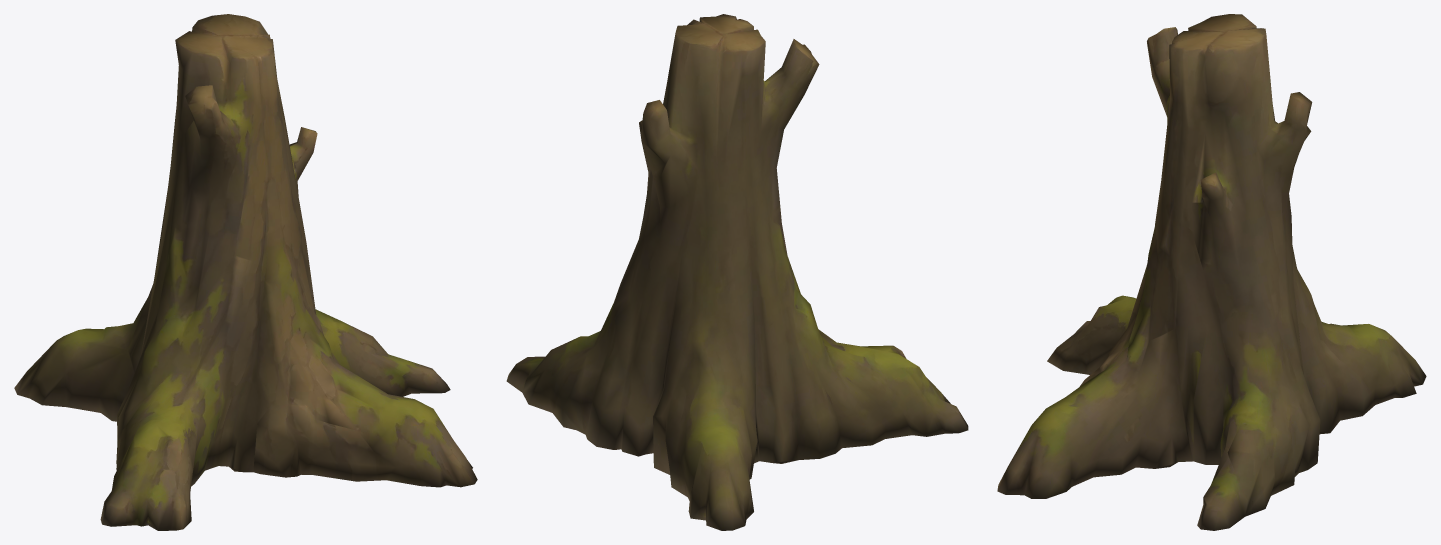
File: SM_FR_TreeTrunkLarge.fbx
3 views of the same model, side by side, from view 1: azimuth 30°, elevation 25°; view 2: azimuth 150°, elevation 25°; view 3: azimuth 270°, elevation 25° (orthographic).
Visible parts, largest first — view 1: SM_FR_TreeTrunkLarge; view 2: SM_FR_TreeTrunkLarge; view 3: SM_FR_TreeTrunkLarge.
Part boxes in pixels (x1,y1,x2,y2): SM_FR_TreeTrunkLarge: [14, 14, 477, 530]; SM_FR_TreeTrunkLarge: [506, 14, 968, 530]; SM_FR_TreeTrunkLarge: [997, 14, 1426, 530].
Size of the model in its own units: 4.2 by 4 by 3.92.
1 material, 1 textured.
